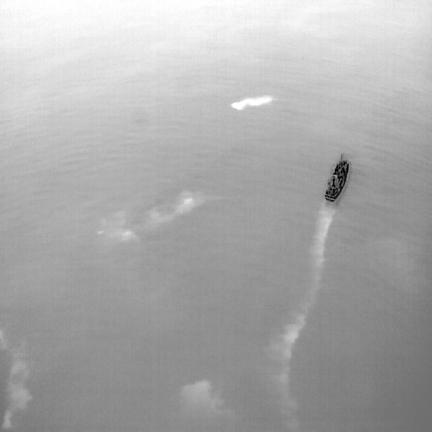flukeprints: (231, 95, 273, 110)
